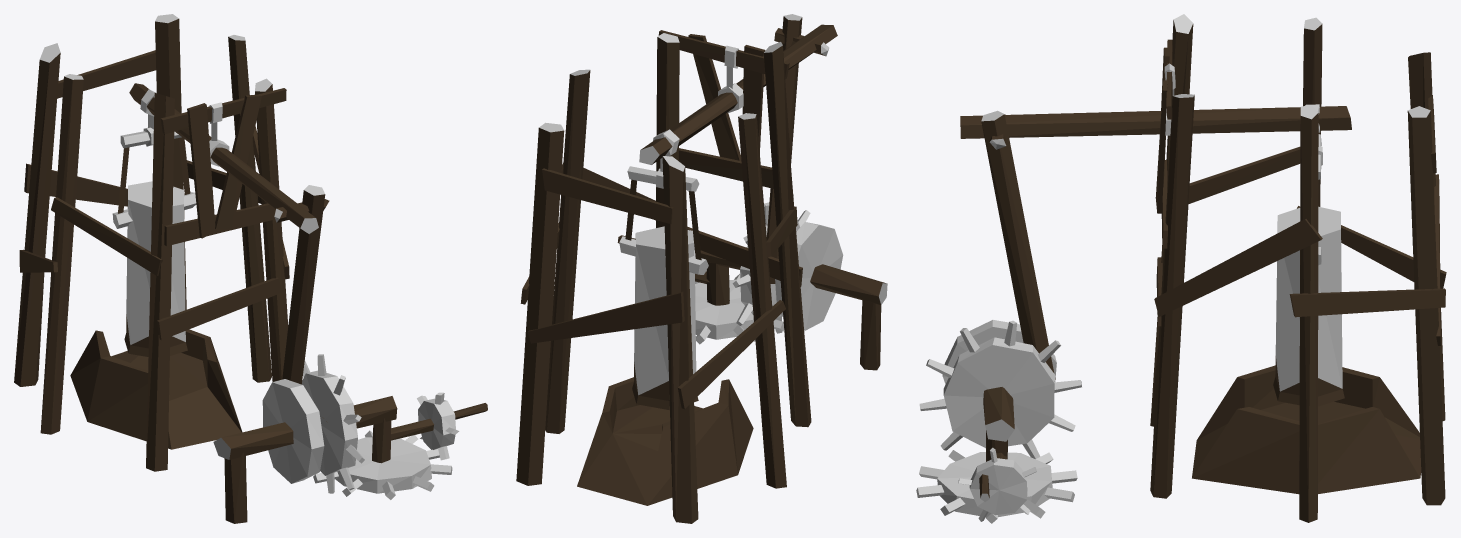
The model's file is STOMPER_OM.OBJ.
3 renders of one model, left to right at view 1: azimuth 30°, elevation 25°; view 2: azimuth 150°, elevation 25°; view 3: azimuth 270°, elevation 25°, orthographic. The views are drawn at different scales.
Visible parts, largest first — view 1: STOMPER_OM; view 2: STOMPER_OM; view 3: STOMPER_OM.
Boxes of the visible parts, x1,y1,x2,y2 form: STOMPER_OM: (14,14,487,523); STOMPER_OM: (516,14,887,523); STOMPER_OM: (916,14,1446,523).
Size of the model in its own units: 8.11 by 9.38 by 10.89.
